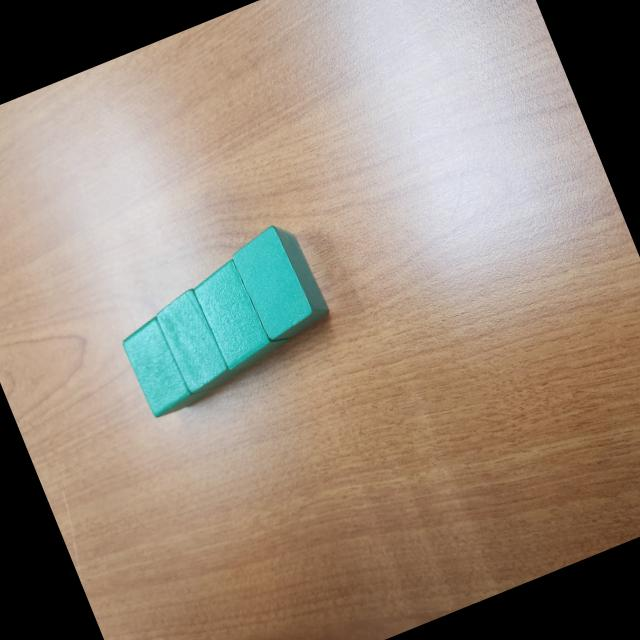green: (225, 216, 334, 348), (187, 250, 293, 377), (150, 280, 245, 400), (116, 306, 214, 420)
